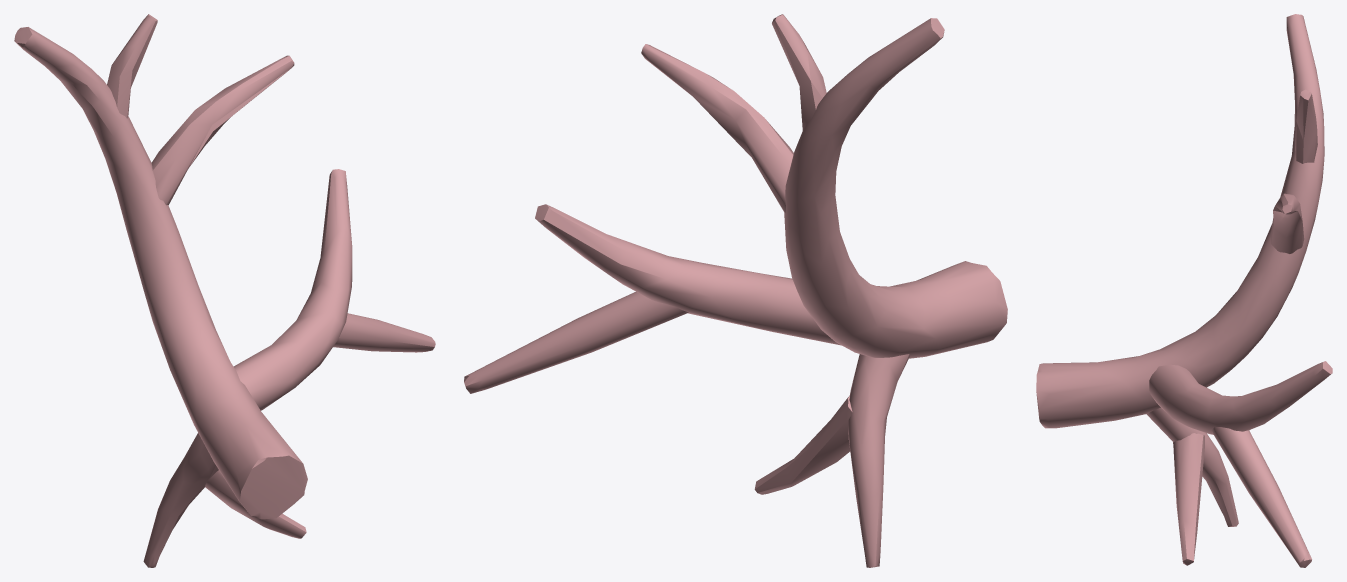
File: fma68228_cx166.glb
The picture shows the model from 3 angles, left to right: view 1: azimuth 30°, elevation 25°; view 2: azimuth 150°, elevation 25°; view 3: azimuth 270°, elevation 25°; orthographic projection. The views are drawn at different scales.
Visible parts, largest first — view 1: FMA68228_CX166; view 2: FMA68228_CX166; view 3: FMA68228_CX166.
Boxes of the visible parts, box(x1,y1,x2,y2) form: FMA68228_CX166: box(14, 14, 435, 567); FMA68228_CX166: box(464, 14, 1007, 567); FMA68228_CX166: box(1036, 14, 1332, 567).
Size of the model in its own units: 0.0548 by 0.0665 by 0.0377.
